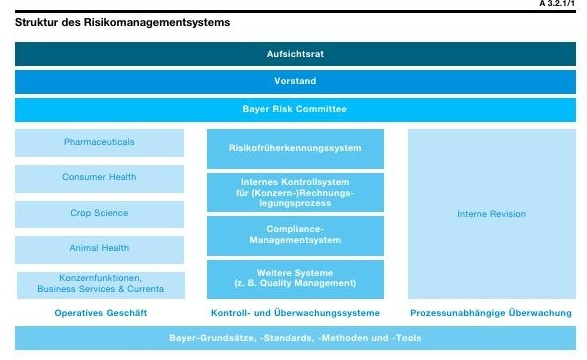table: (0, 0, 587, 360)
